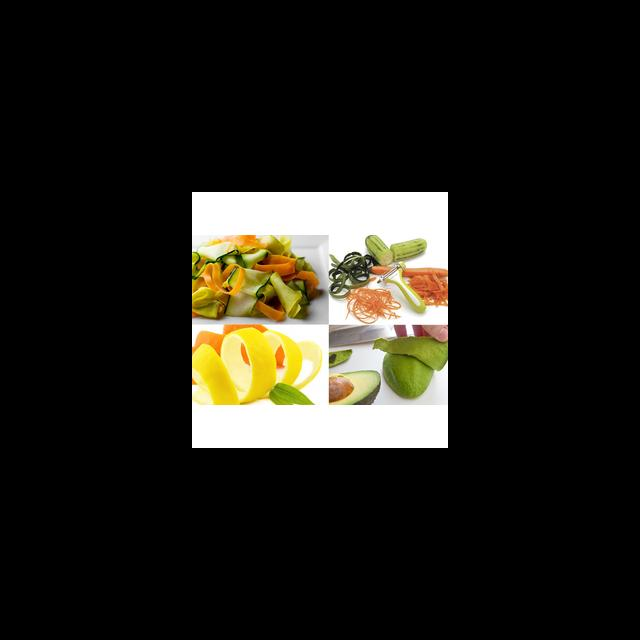food_waste: (194, 241, 307, 322), (202, 323, 314, 401), (385, 334, 448, 389), (324, 361, 375, 406), (349, 279, 395, 319), (330, 243, 366, 292), (383, 228, 425, 259), (413, 267, 448, 299), (359, 230, 392, 260)
